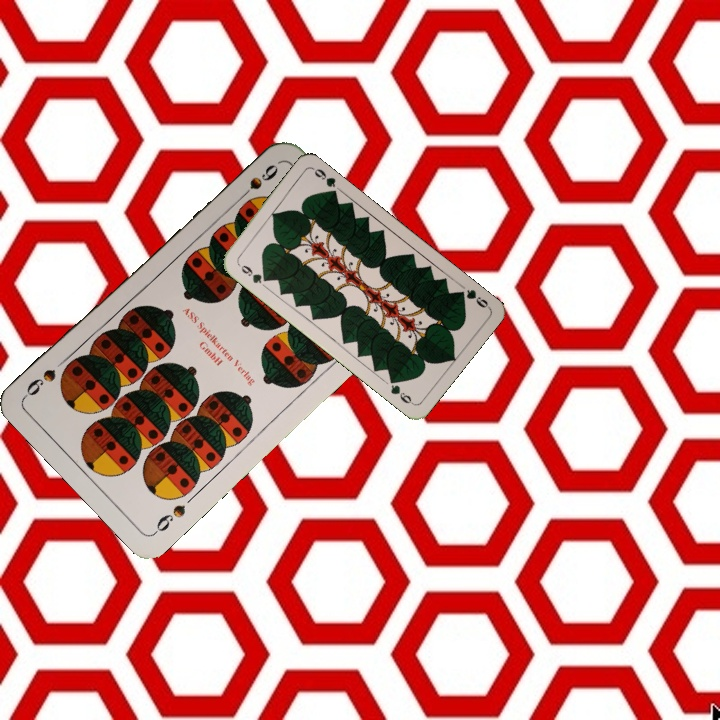G9: (453, 285, 492, 311), (234, 259, 271, 286)
S9: (233, 160, 281, 204), (149, 500, 189, 537)
